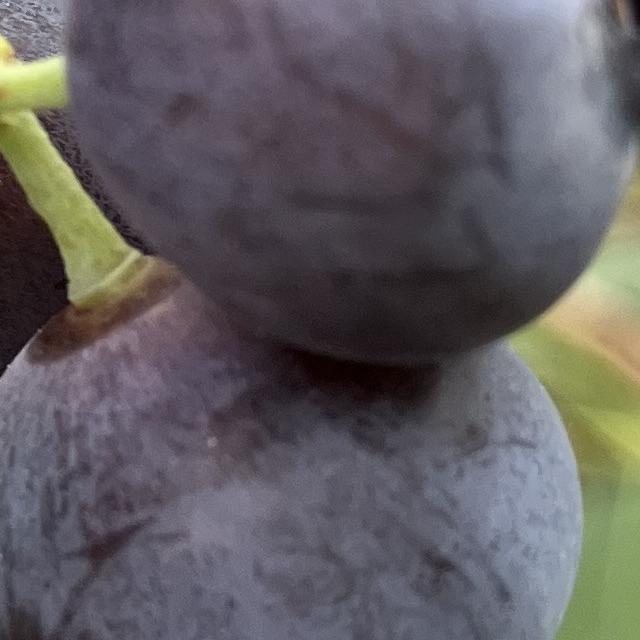Blueberries: (0, 260, 585, 640), (51, 0, 640, 366)
